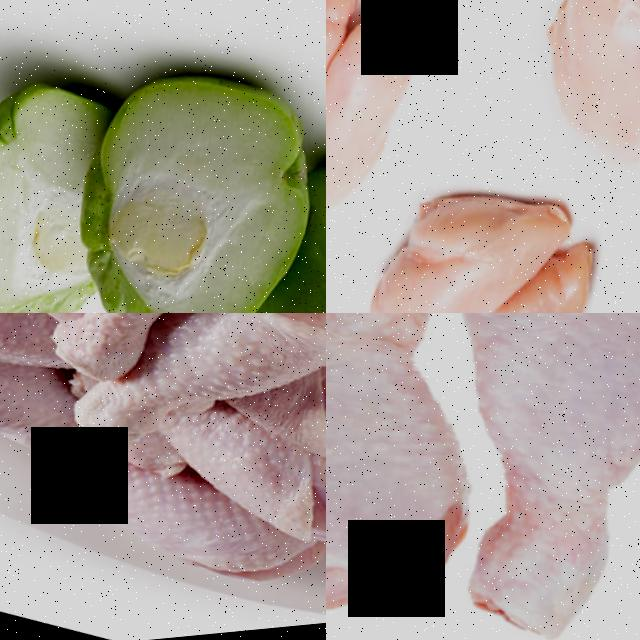chayote: (15, 53, 326, 313), (0, 41, 139, 313), (214, 124, 326, 313)
chicken breast: (326, 154, 640, 313), (443, 0, 640, 247), (326, 0, 476, 303)
chicken thigh: (326, 313, 640, 640), (326, 313, 573, 640), (0, 422, 326, 635), (78, 313, 326, 510), (12, 313, 252, 409)
